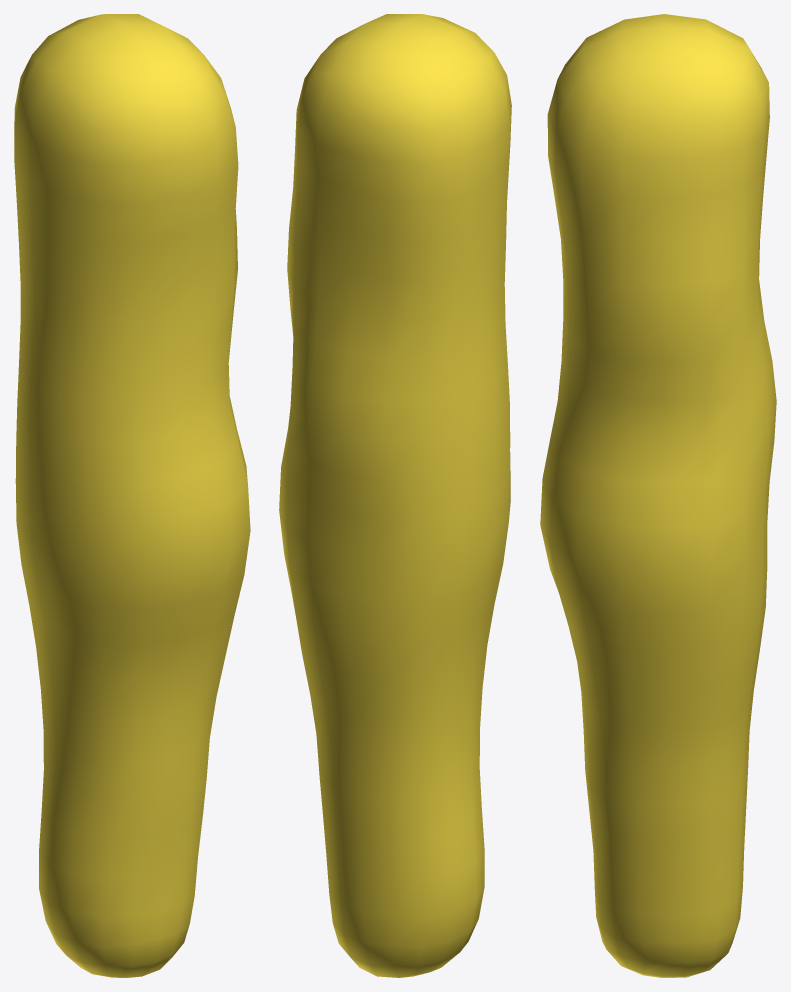
The model's file is SM_SkinStealer_UpperArm.fbx.
3 renders of one model, left to right at view 1: azimuth 30°, elevation 25°; view 2: azimuth 150°, elevation 25°; view 3: azimuth 270°, elevation 25°, orthographic.
Visible parts, largest first — view 1: SM_SkinStealer_UpperArm; view 2: SM_SkinStealer_UpperArm; view 3: SM_SkinStealer_UpperArm.
Boxes of the visible parts, x1,y1,x2,y2 form: SM_SkinStealer_UpperArm: [14, 14, 250, 977]; SM_SkinStealer_UpperArm: [279, 14, 511, 977]; SM_SkinStealer_UpperArm: [540, 14, 776, 977].
Bounding box in the file's own units: 9.82 × 43.64 × 9.88.
